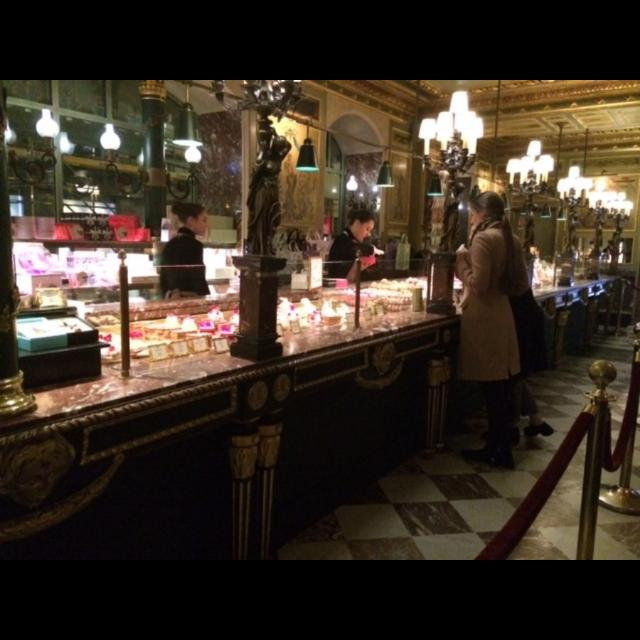head: (468, 190, 506, 233), (470, 202, 504, 232), (348, 209, 376, 243), (180, 204, 208, 236)
person: (465, 207, 561, 443), (450, 189, 528, 477), (156, 198, 218, 424), (322, 204, 388, 400)
